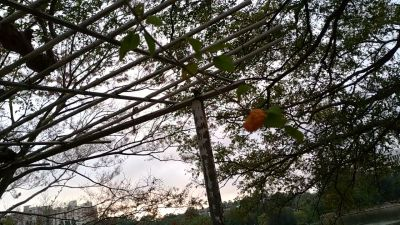eggs: (242, 108, 266, 135)
